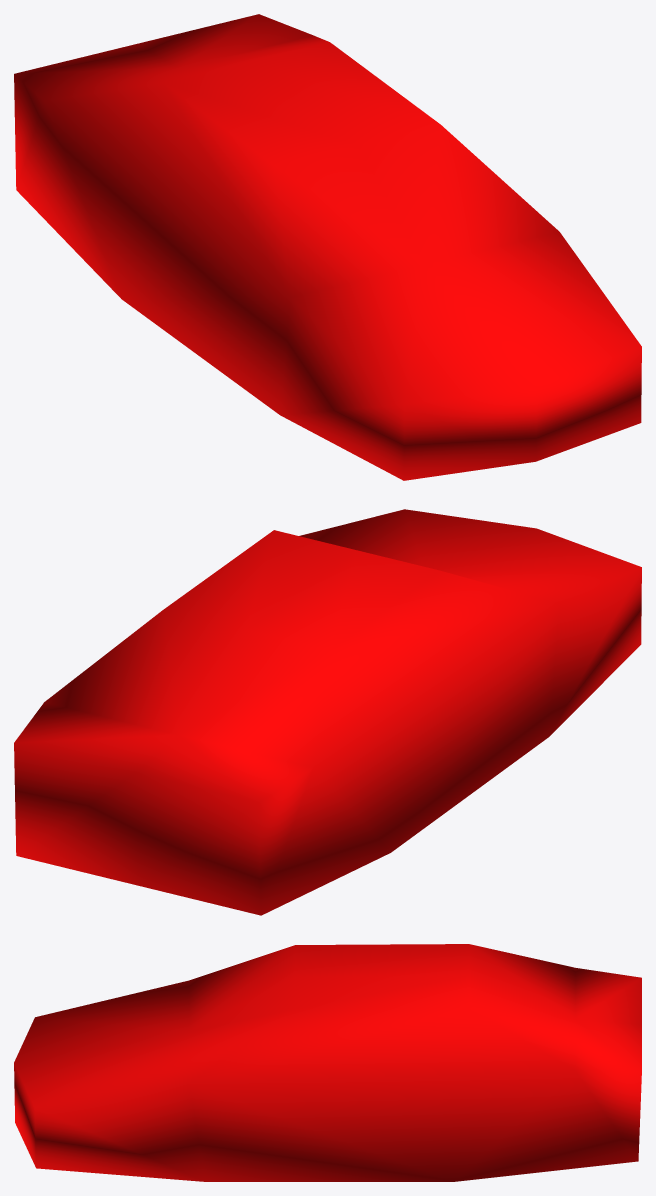
File: car_0010_collider.fbx
The picture shows the model from 3 angles, top to bottom: view 1: azimuth 30°, elevation 25°; view 2: azimuth 150°, elevation 25°; view 3: azimuth 270°, elevation 25°; orthographic projection. The views are drawn at different scales.
Visible parts, largest first — view 1: Mesh; view 2: Mesh; view 3: Mesh.
Boxes of the visible parts, x1,y1,x2,y2 form: Mesh: (14,14,641,480); Mesh: (14,509,641,915); Mesh: (14,944,641,1181).
Size of the model in its own units: 182 by 127 by 468.
